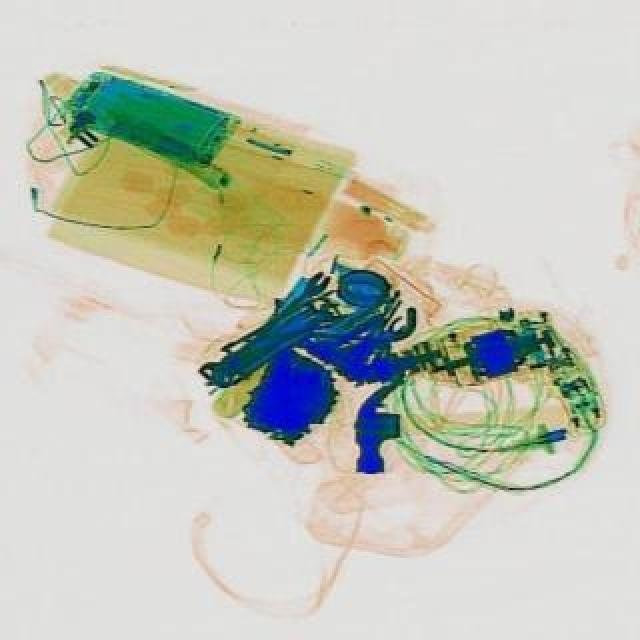scissors: (246, 266, 332, 342), (192, 334, 262, 386)
